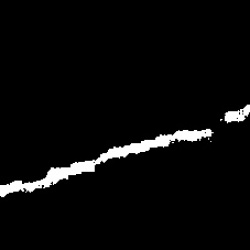crack: (2, 129, 211, 198), (223, 107, 249, 123)
